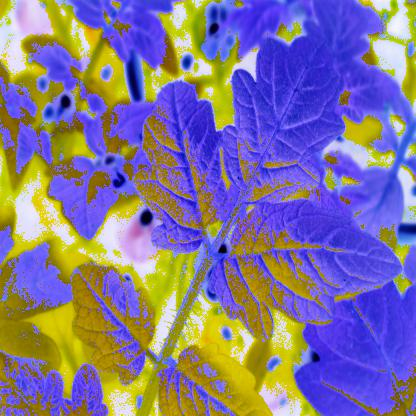tomato leaf: (205, 203, 404, 338), (225, 31, 345, 212), (132, 76, 234, 271), (62, 252, 167, 375), (156, 337, 277, 416), (44, 154, 127, 242), (100, 4, 184, 77), (84, 89, 158, 159)
